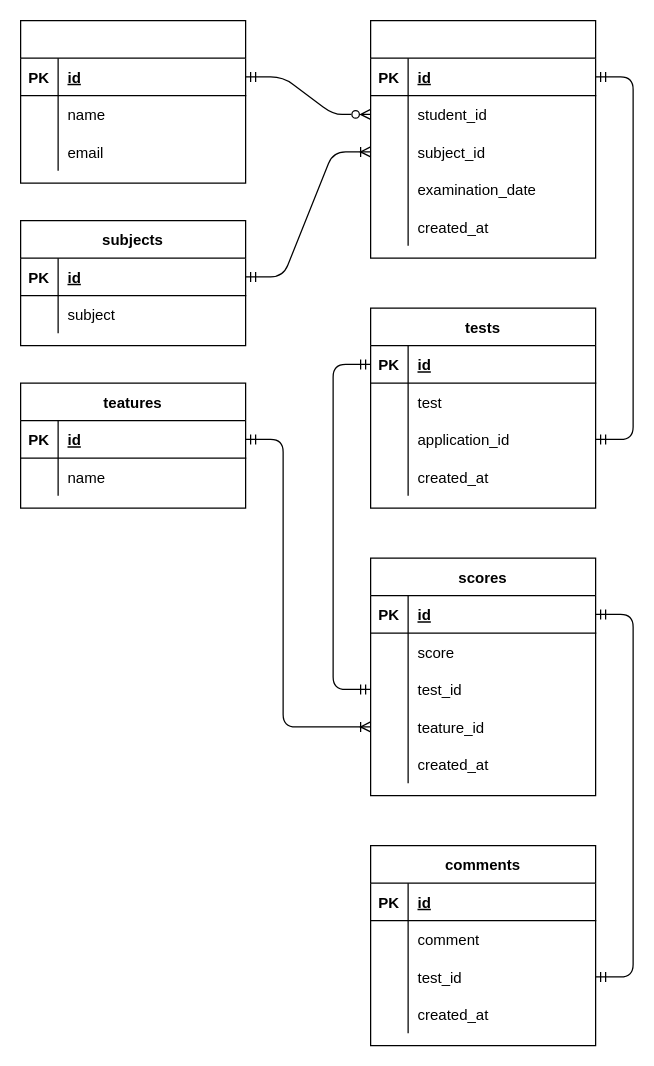
Some shapes in this 654 by 1066 pixel diagram are drawn without their labels. The shapes that lost their labels are listed below. From the top down, each one's box as (x1, y1, x2, y2) in pixels, then its label:
(19, 19, 246, 183): students
(369, 19, 596, 258): applications
